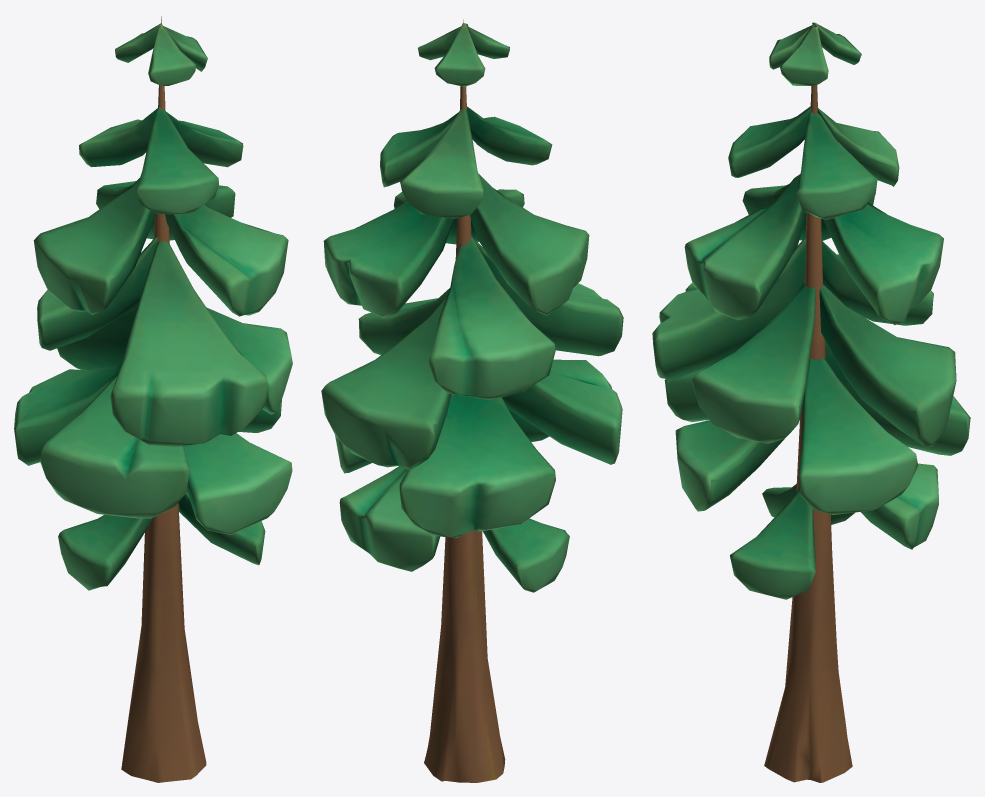
Rendered from SM_Tree_01.glb.
3 renders of one model, left to right at view 1: azimuth 30°, elevation 25°; view 2: azimuth 150°, elevation 25°; view 3: azimuth 270°, elevation 25°, orthographic.
Parts seen in each view (by area): view 1: SM_Tree_01; view 2: SM_Tree_01; view 3: SM_Tree_01.
Boxes of the visible parts, x1,y1,x2,y2 form: SM_Tree_01: (14, 16, 292, 782); SM_Tree_01: (321, 19, 623, 782); SM_Tree_01: (652, 22, 970, 782).
Size of the model in its own units: 3.04 by 8.61 by 3.31.
1 material, 1 textured.
